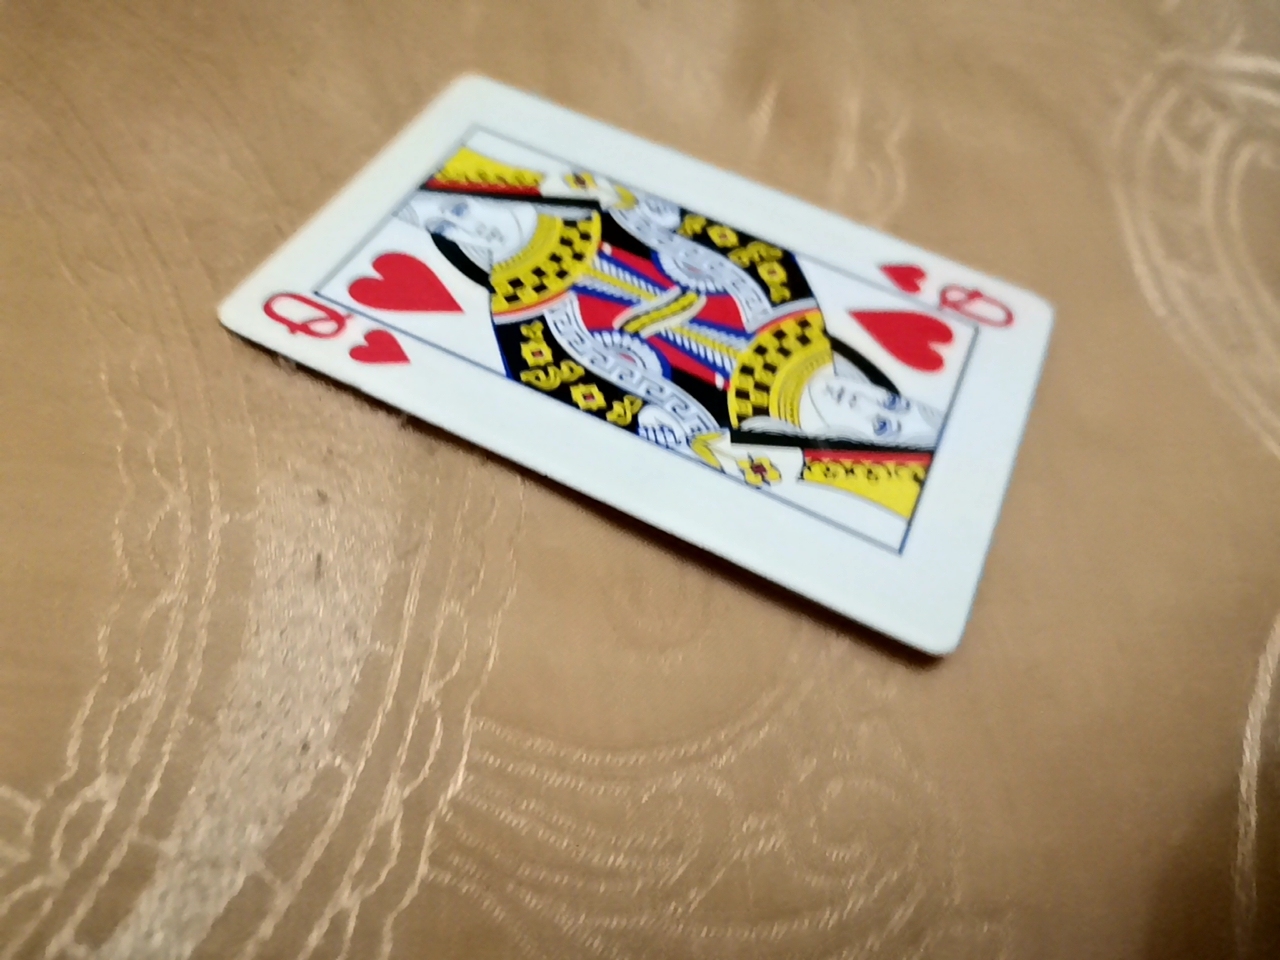hx q: (173, 52, 1078, 641)
